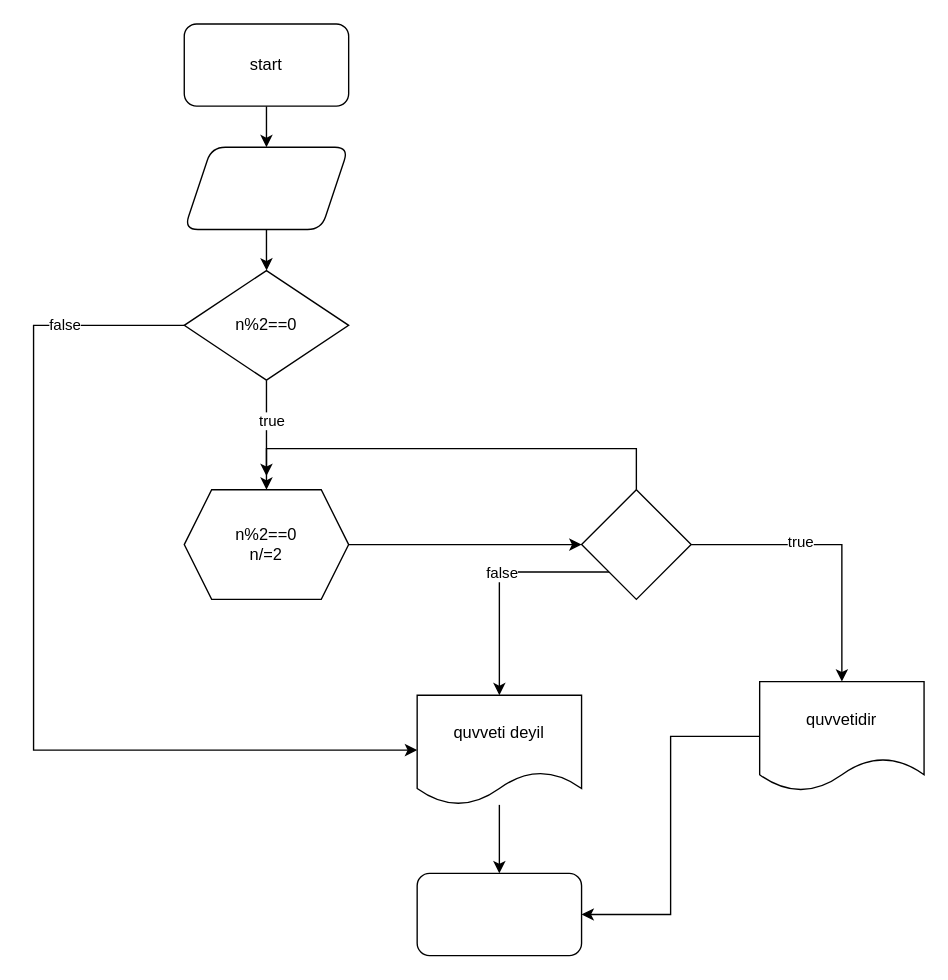
Some shapes in this 948 by 980 pixel diagram are drawn without their labels. Here are the shapes that lost their labels. From the top down, the box of each, then its label:
(183, 146, 349, 229): n= 32
(580, 488, 691, 599): n==1
(416, 872, 582, 956): end
